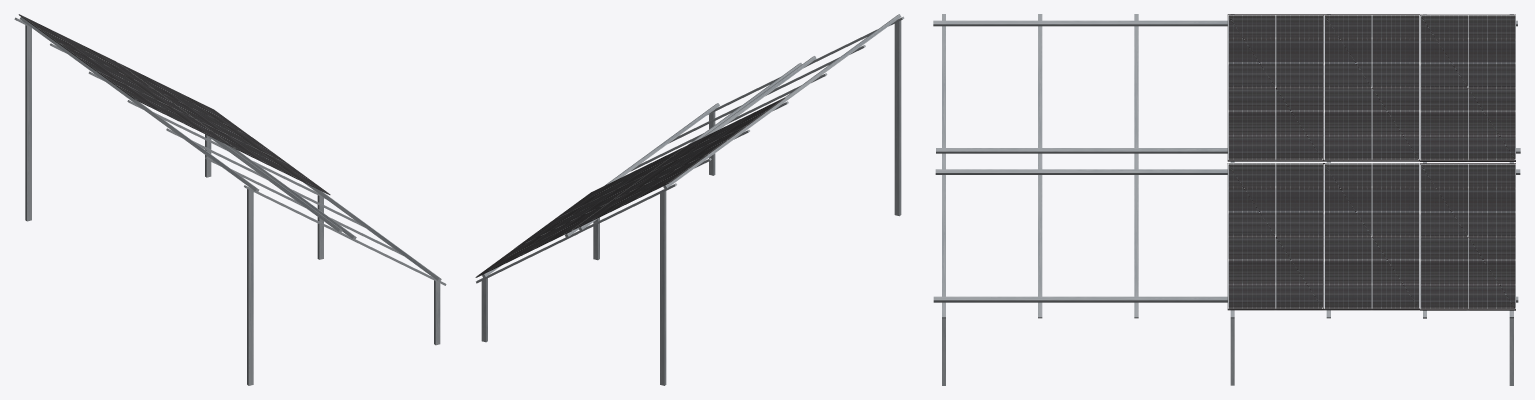
The model's file is solar_panel_ground_6.glb.
3 renders of one model, left to right at view 1: azimuth 30°, elevation 25°; view 2: azimuth 150°, elevation 25°; view 3: azimuth 270°, elevation 25°, orthographic. The views are drawn at different scales.
Visible parts, largest first — view 1: konstrukcja_metal.025, konstrukcja_metal.009, panel.007, konstrukcja_metal.014, panel.002, panel.006, panel.005, panel.001, panel, konstrukcja_metal.001, konstrukcja_metal.002, konstrukcja_metal.003 (+1 smaller); view 2: konstrukcja_metal.025, konstrukcja_metal.009, panel.005, konstrukcja_metal.014, panel, panel.006, panel.007, panel.001, panel.002, konstrukcja_metal.001, konstrukcja_metal.002, konstrukcja_metal.003 (+1 smaller); view 3: panel.006, panel.007, panel.001, panel.002, panel, panel.005, konstrukcja_metal.001, konstrukcja_metal.014, konstrukcja_metal.003, konstrukcja_metal.002, konstrukcja_metal.019, konstrukcja_metal.020 (+4 smaller).
Boxes of the visible parts, left/top/right/bottom form: konstrukcja_metal.025: left=247, top=189, right=253, bottom=385; konstrukcja_metal.009: left=25, top=25, right=31, bottom=221; panel.007: left=96, top=71, right=231, bottom=146; konstrukcja_metal.014: left=20, top=17, right=259, bottom=192; panel.002: left=195, top=119, right=330, bottom=194; panel.006: left=57, top=42, right=192, bottom=117; panel.005: left=18, top=14, right=152, bottom=88; panel.001: left=156, top=90, right=290, bottom=165; panel: left=117, top=62, right=250, bottom=136; konstrukcja_metal.001: left=303, top=182, right=441, bottom=281; konstrukcja_metal.002: left=205, top=134, right=342, bottom=232; konstrukcja_metal.003: left=225, top=144, right=356, bottom=239; konstrukcja_metal.025: left=894, top=20, right=901, bottom=216; konstrukcja_metal.009: left=660, top=191, right=666, bottom=385; panel.005: left=573, top=154, right=707, bottom=229; konstrukcja_metal.014: left=663, top=14, right=901, bottom=189; panel: left=475, top=202, right=609, bottom=277; panel.006: left=612, top=126, right=746, bottom=200; panel.007: left=651, top=97, right=785, bottom=171; panel.001: left=514, top=174, right=647, bottom=248; panel.002: left=554, top=146, right=685, bottom=219; konstrukcja_metal.001: left=482, top=103, right=719, bottom=278; konstrukcja_metal.002: left=578, top=56, right=816, bottom=230; konstrukcja_metal.003: left=565, top=63, right=801, bottom=237; panel.006: left=1323, top=14, right=1419, bottom=161; panel.007: left=1227, top=14, right=1323, bottom=161; panel.001: left=1323, top=163, right=1419, bottom=310; panel.002: left=1227, top=163, right=1323, bottom=310; panel: left=1420, top=163, right=1515, bottom=310; panel.005: left=1420, top=14, right=1515, bottom=161; konstrukcja_metal.001: left=933, top=296, right=1518, bottom=302; konstrukcja_metal.014: left=933, top=20, right=1517, bottom=26; konstrukcja_metal.003: left=935, top=169, right=1520, bottom=174; konstrukcja_metal.002: left=936, top=148, right=1520, bottom=153; konstrukcja_metal.019: left=1134, top=14, right=1138, bottom=168; konstrukcja_metal.020: left=1038, top=14, right=1042, bottom=168.
Size of the model in its own units: 6.8 by 6.68 by 13.84.
2 materials, 2 textured.
